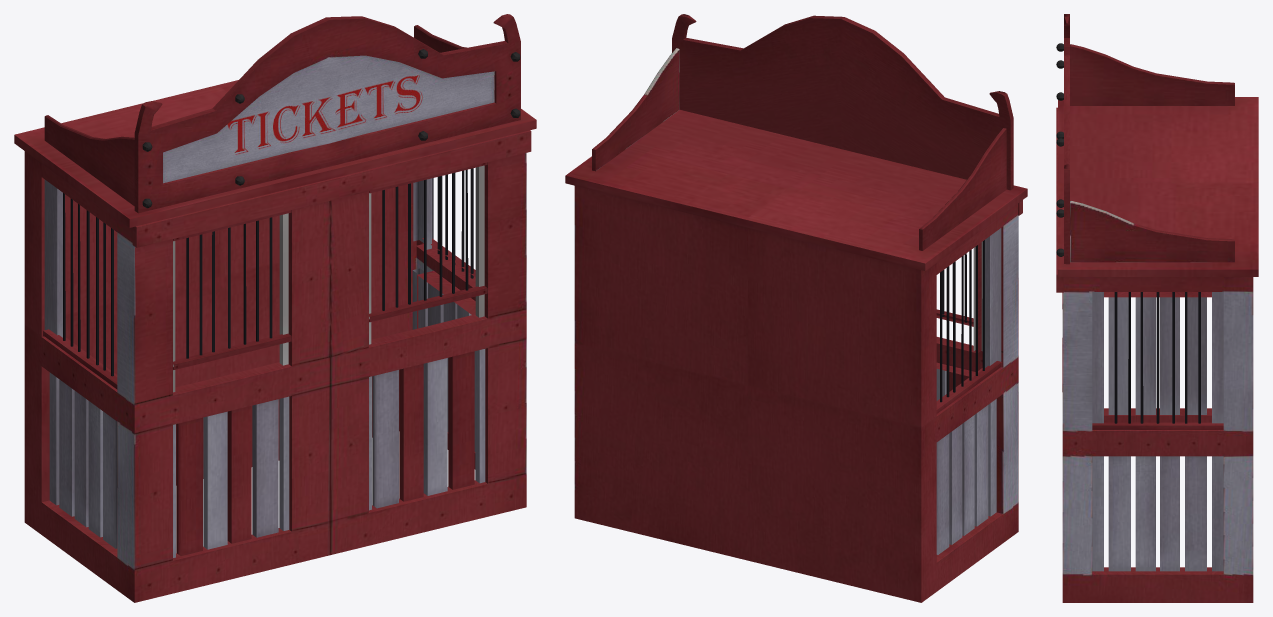
File: Ticket_Reg.fbx
3 views of the same model, side by side, from view 1: azimuth 30°, elevation 25°; view 2: azimuth 150°, elevation 25°; view 3: azimuth 270°, elevation 25° (orthographic). The views are drawn at different scales.
Visible parts, largest first — view 1: TicketReg_low; view 2: TicketReg_low; view 3: TicketReg_low.
Boxes of the visible parts, left/top/right/bottom form: TicketReg_low: left=14, top=14, right=536, bottom=602; TicketReg_low: left=565, top=14, right=1027, bottom=602; TicketReg_low: left=1056, top=14, right=1258, bottom=602.
Size of the model in its own units: 256 by 321 by 127.
1 material, 1 textured.
